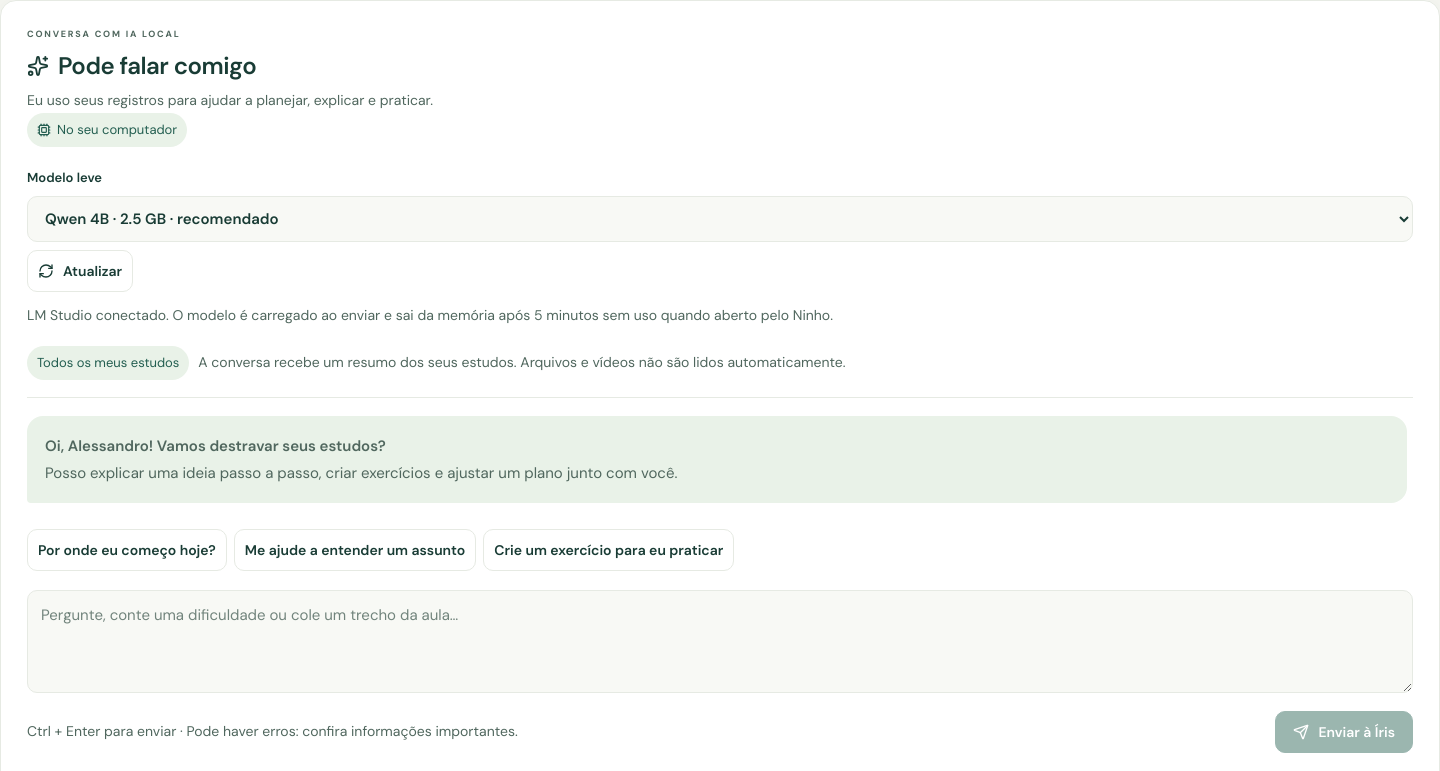
Test: conversa real da Íris pela ponte nativa › falha do servidor aparece e mantém o rascunho
This screenshot has width=1440, height=771.
Expected: the dropdown named "Modelo de IA" shows "Qwen 4B · 2.5 GB · recomendado", [27,196,1413,242]
Type "Teste" into the text box named "Converse com Íris". click: {"x": 720, "y": 641}
box: [27,590,1413,693]
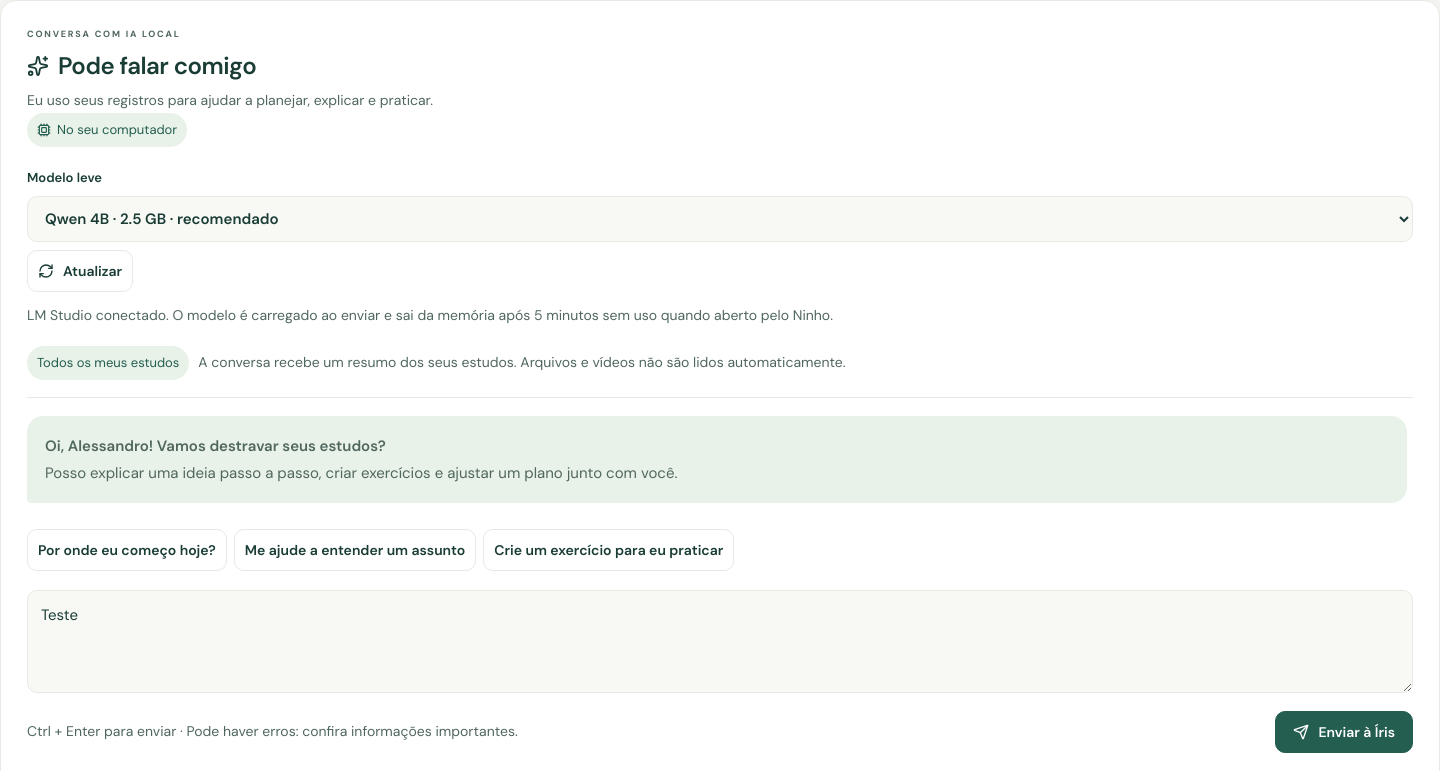
Click the button "Enviar à Íris". click: {"x": 1344, "y": 732}
box: [1275,711,1413,753]
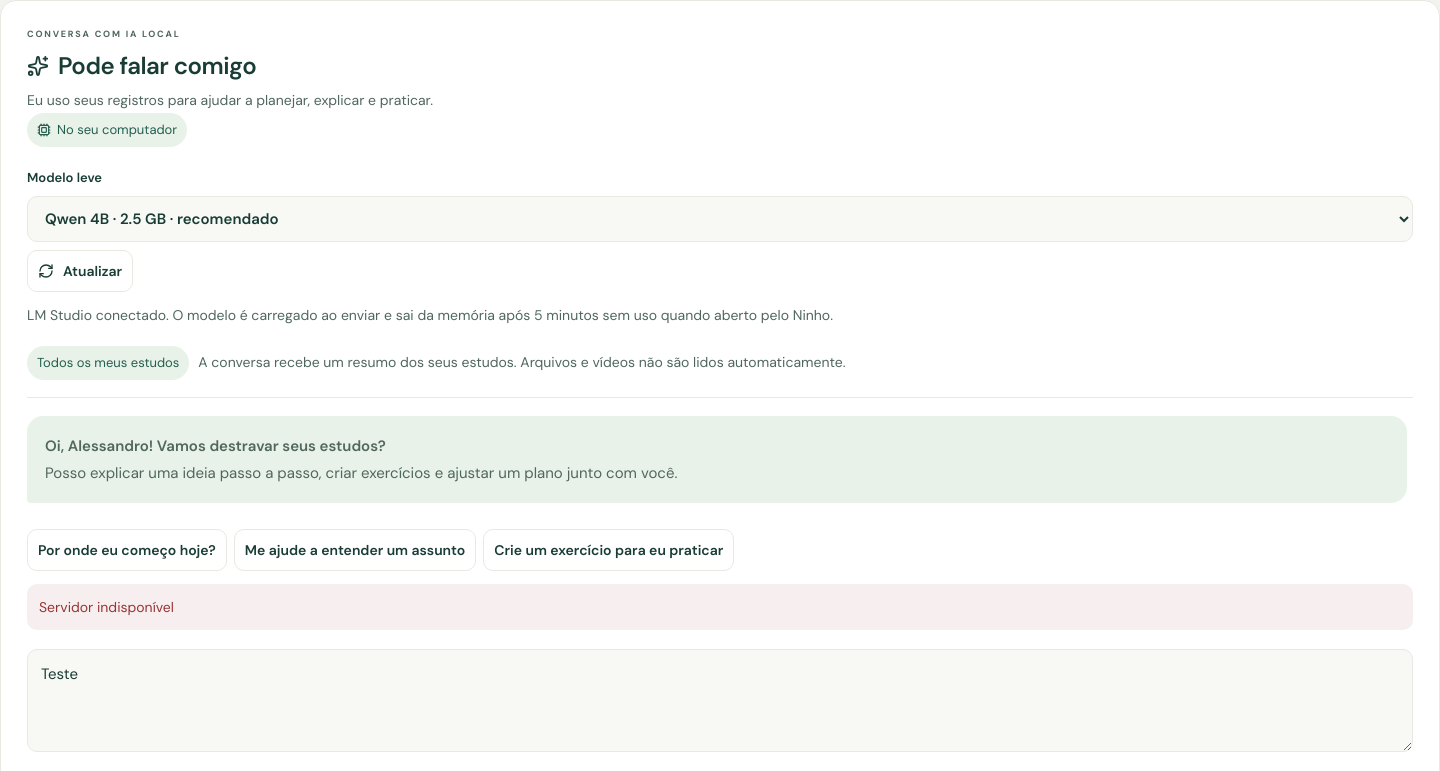
Expected: the message "Servidor indisponível" does not show "Error invoking remote method", [27,584,1413,630]
Expected: the message "Servidor indisponível" is shown, [27,584,1413,630]
